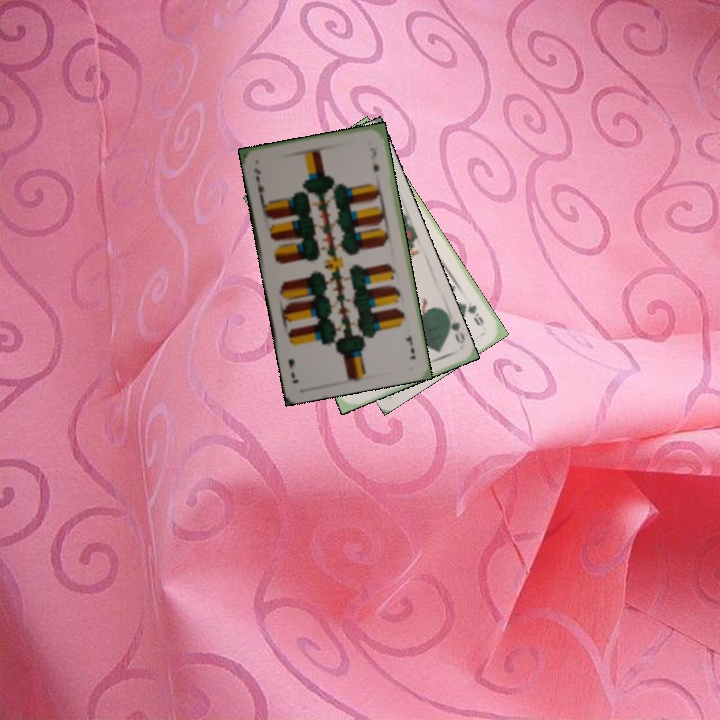E7: (250, 164, 267, 202), (402, 332, 418, 362)
G9: (461, 298, 486, 329)
GO: (442, 310, 467, 346)
